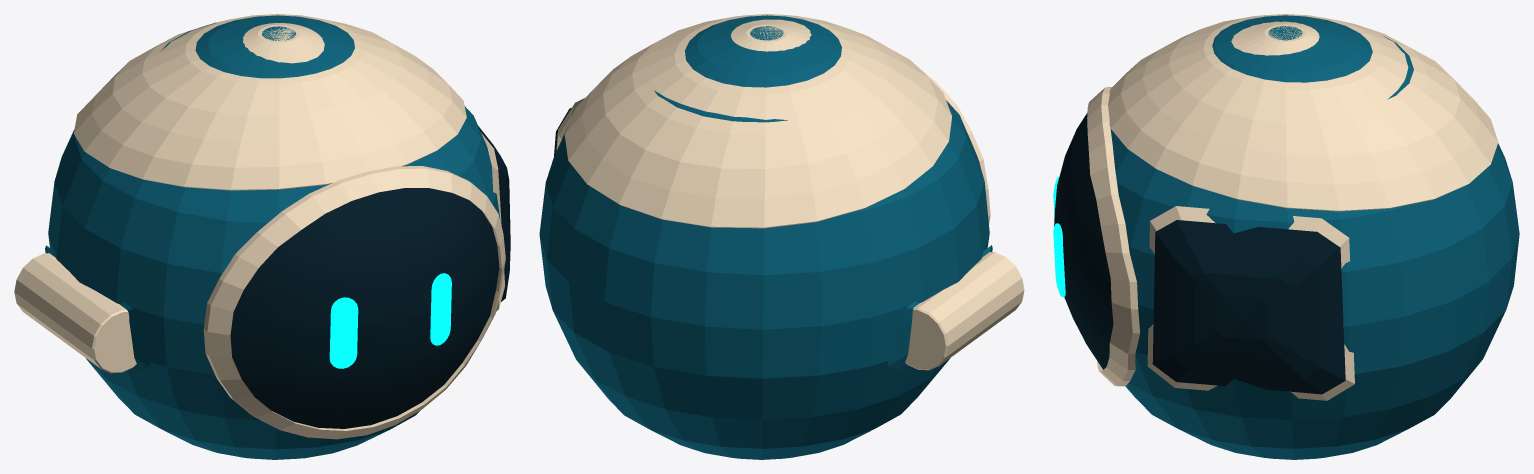
File: copilot_architect_v01.glb
3 views of the same model, side by side, from view 1: azimuth 30°, elevation 25°; view 2: azimuth 150°, elevation 25°; view 3: azimuth 270°, elevation 25° (orthographic).
Parts seen in each view (by area): view 1: pavilion_body, pavilion_eyes; view 2: pavilion_body; view 3: pavilion_body, pavilion_eyes.
Boxes of the visible parts, box(x1,y1,x2,y2) form: pavilion_body: box(14, 14, 510, 459); pavilion_eyes: box(329, 273, 451, 368); pavilion_body: box(539, 14, 1024, 459); pavilion_body: box(1054, 14, 1519, 459); pavilion_eyes: box(1053, 176, 1065, 297).
Size of the model in its own units: 3 by 2.64 by 2.84.
2 materials, 2 textured.
